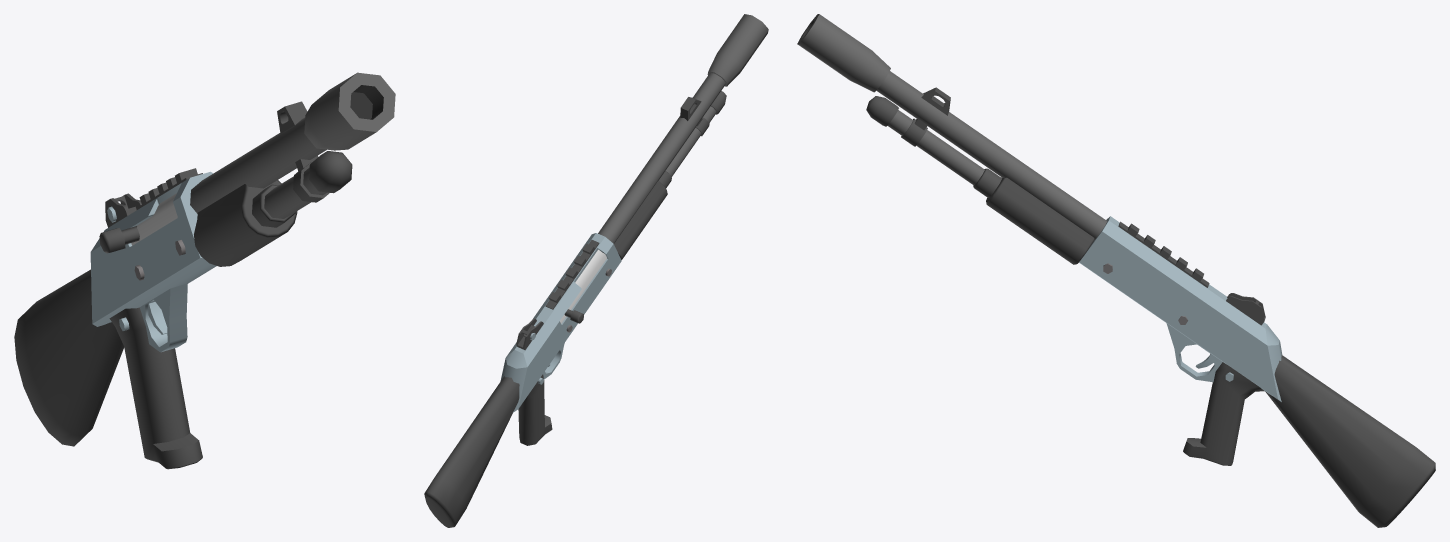
The model's file is Shotgun.glb.
3 views of the same model, side by side, from view 1: azimuth 30°, elevation 25°; view 2: azimuth 150°, elevation 25°; view 3: azimuth 270°, elevation 25° (orthographic). The views are drawn at different scales.
Parts seen in each view (by area): view 1: Shotgun; view 2: Shotgun; view 3: Shotgun.
Part boxes in pixels (x1,y1,x2,y2): Shotgun: [14, 72, 395, 469]; Shotgun: [424, 14, 768, 527]; Shotgun: [797, 14, 1435, 527].
Size of the model in its own units: 0.1623 by 0.5453 by 0.6791.
Materials: 1 (1 with a texture image).
